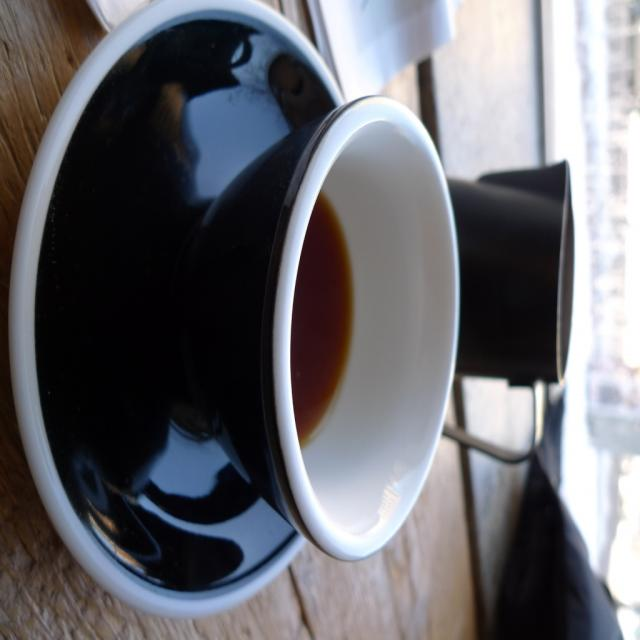Coffee: (253, 91, 462, 572)
Tea: (292, 194, 356, 444)
